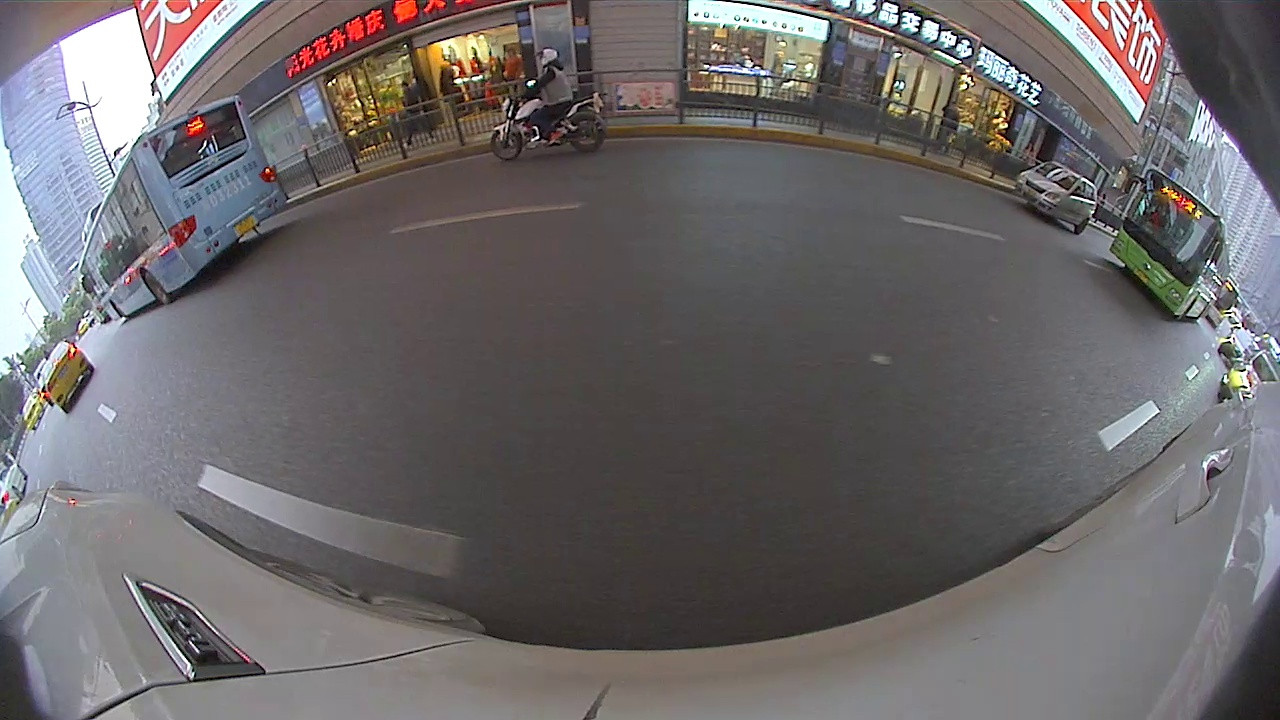car: (131, 50, 580, 311), (1019, 202, 1121, 303), (1134, 303, 1205, 386), (1207, 396, 1259, 477), (3, 305, 61, 367)
front: (363, 189, 468, 288)
rear: (162, 250, 215, 309), (1073, 267, 1095, 289)
